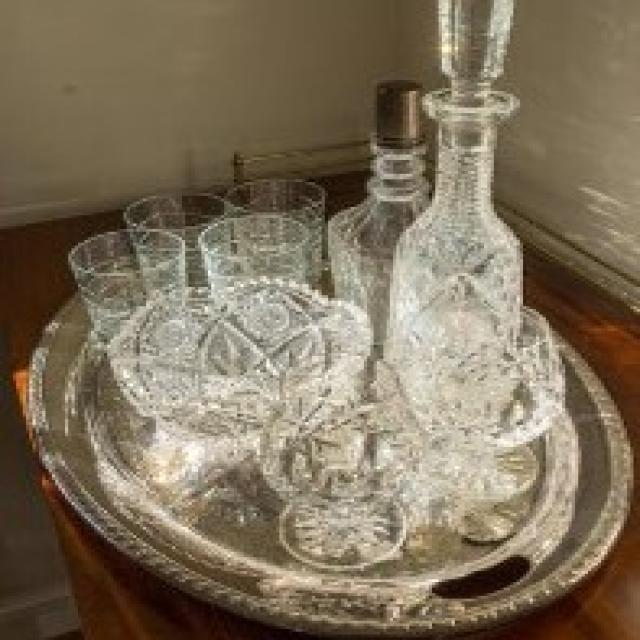electronic: (64, 12, 576, 581)
